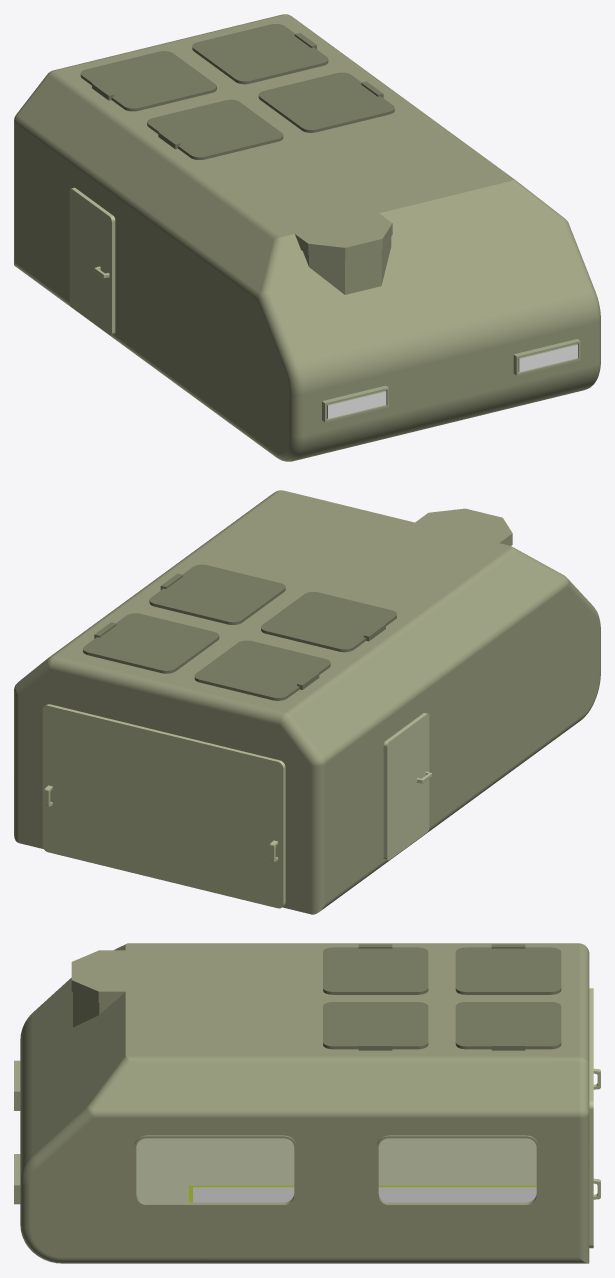
The model's file is car-draco.glb.
3 views of the same model, one above another, from view 1: azimuth 30°, elevation 25°; view 2: azimuth 150°, elevation 25°; view 3: azimuth 270°, elevation 25° (orthographic).
Parts seen in each view (by area): view 1: 零件-车壳07-1, 零件-左右车门07-3, 零件-顶部车门07-2, 零件-顶部车门07-1, 零件-顶部车门07-3, 零件-顶部车门07-4, 零件-前车灯-1; view 2: 零件-车壳07-1, 零件-后车门07-1, 零件-左右车门07-3, 零件-顶部车门07-2, 零件-顶部车门07-1, 零件-顶部车门07-3, 零件-顶部车门07-4; view 3: 零件-车壳07-1, 零件-左侧玻璃-1-1, 零件-左侧玻璃-2-1, 零件-顶部车门07-3, 零件-顶部车门07-4, 零件-顶部车门07-1, 零件-顶部车门07-2, 拉伸担架-下-1, 零件-后车门07-1, 零件-拉伸担架07-1, 零件-前车灯-1.
Part boxes in pixels (x1,y1,x2,y2): 零件-车壳07-1: (14,14,600,461); 零件-左右车门07-3: (69,187,115,335); 零件-顶部车门07-2: (258,72,394,132); 零件-顶部车门07-1: (192,24,328,84); 零件-顶部车门07-3: (80,51,216,111); 零件-顶部车门07-4: (147,99,283,159); 零件-前车灯-1: (322,339,580,422); 零件-车壳07-1: (14,490,600,914); 零件-后车门07-1: (42,704,285,908); 零件-左右车门07-3: (383,713,431,860); 零件-顶部车门07-2: (149,564,285,624); 零件-顶部车门07-1: (83,613,219,673); 零件-顶部车门07-3: (194,640,330,700); 零件-顶部车门07-4: (261,592,396,652); 零件-车壳07-1: (20,943,589,1263); 零件-左侧玻璃-1-1: (137,1139,293,1203); 零件-左侧玻璃-2-1: (379,1139,535,1203); 零件-顶部车门07-3: (455,944,561,994); 零件-顶部车门07-4: (323,944,428,994); 零件-顶部车门07-1: (455,1002,561,1050); 零件-顶部车门07-2: (323,1002,428,1050); 拉伸担架-下-1: (193,1187,536,1202); 零件-后车门07-1: (589,988,600,1248); 零件-拉伸担架07-1: (189,1185,536,1202); 零件-前车灯-1: (14,1060,20,1204).
Bounding box in the file's own units: 1.76 × 1.02 × 2.79.
